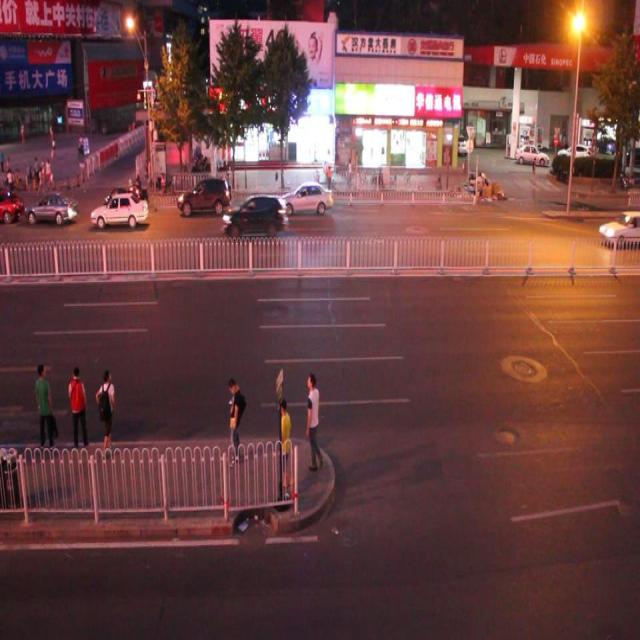car: (175, 172, 237, 217), (221, 193, 287, 235), (278, 175, 335, 220), (25, 186, 81, 226), (90, 192, 150, 228), (101, 180, 145, 223), (598, 210, 640, 246)
